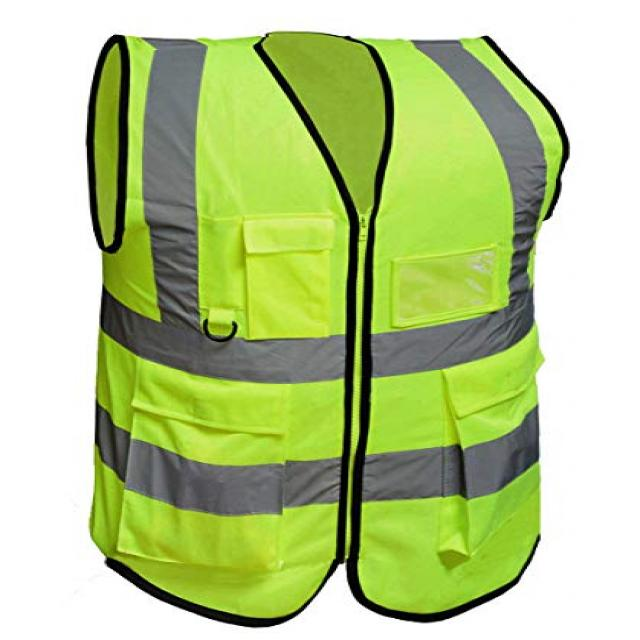Reflective-Jacket: (66, 9, 597, 640)
